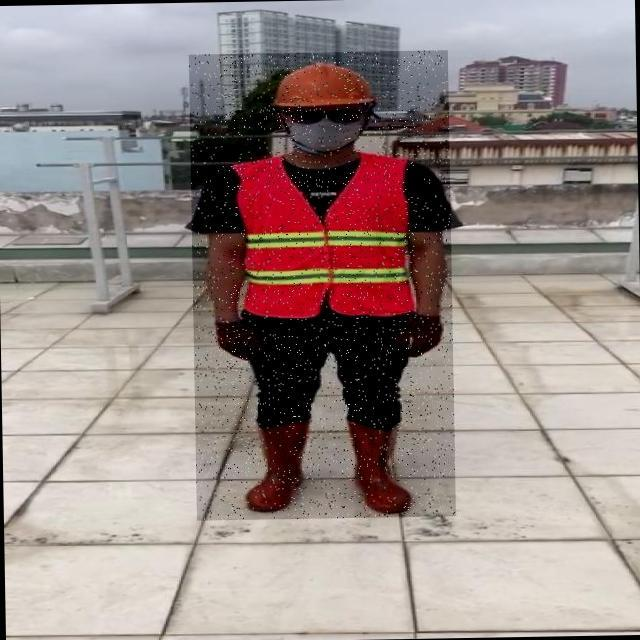Gloves: (215, 319, 266, 360), (395, 316, 444, 357)
Helmet: (272, 62, 375, 109)
Human: (189, 51, 456, 521)
Safety Boot: (340, 415, 414, 514), (242, 420, 312, 513)
Safety Vest: (230, 155, 414, 316)
